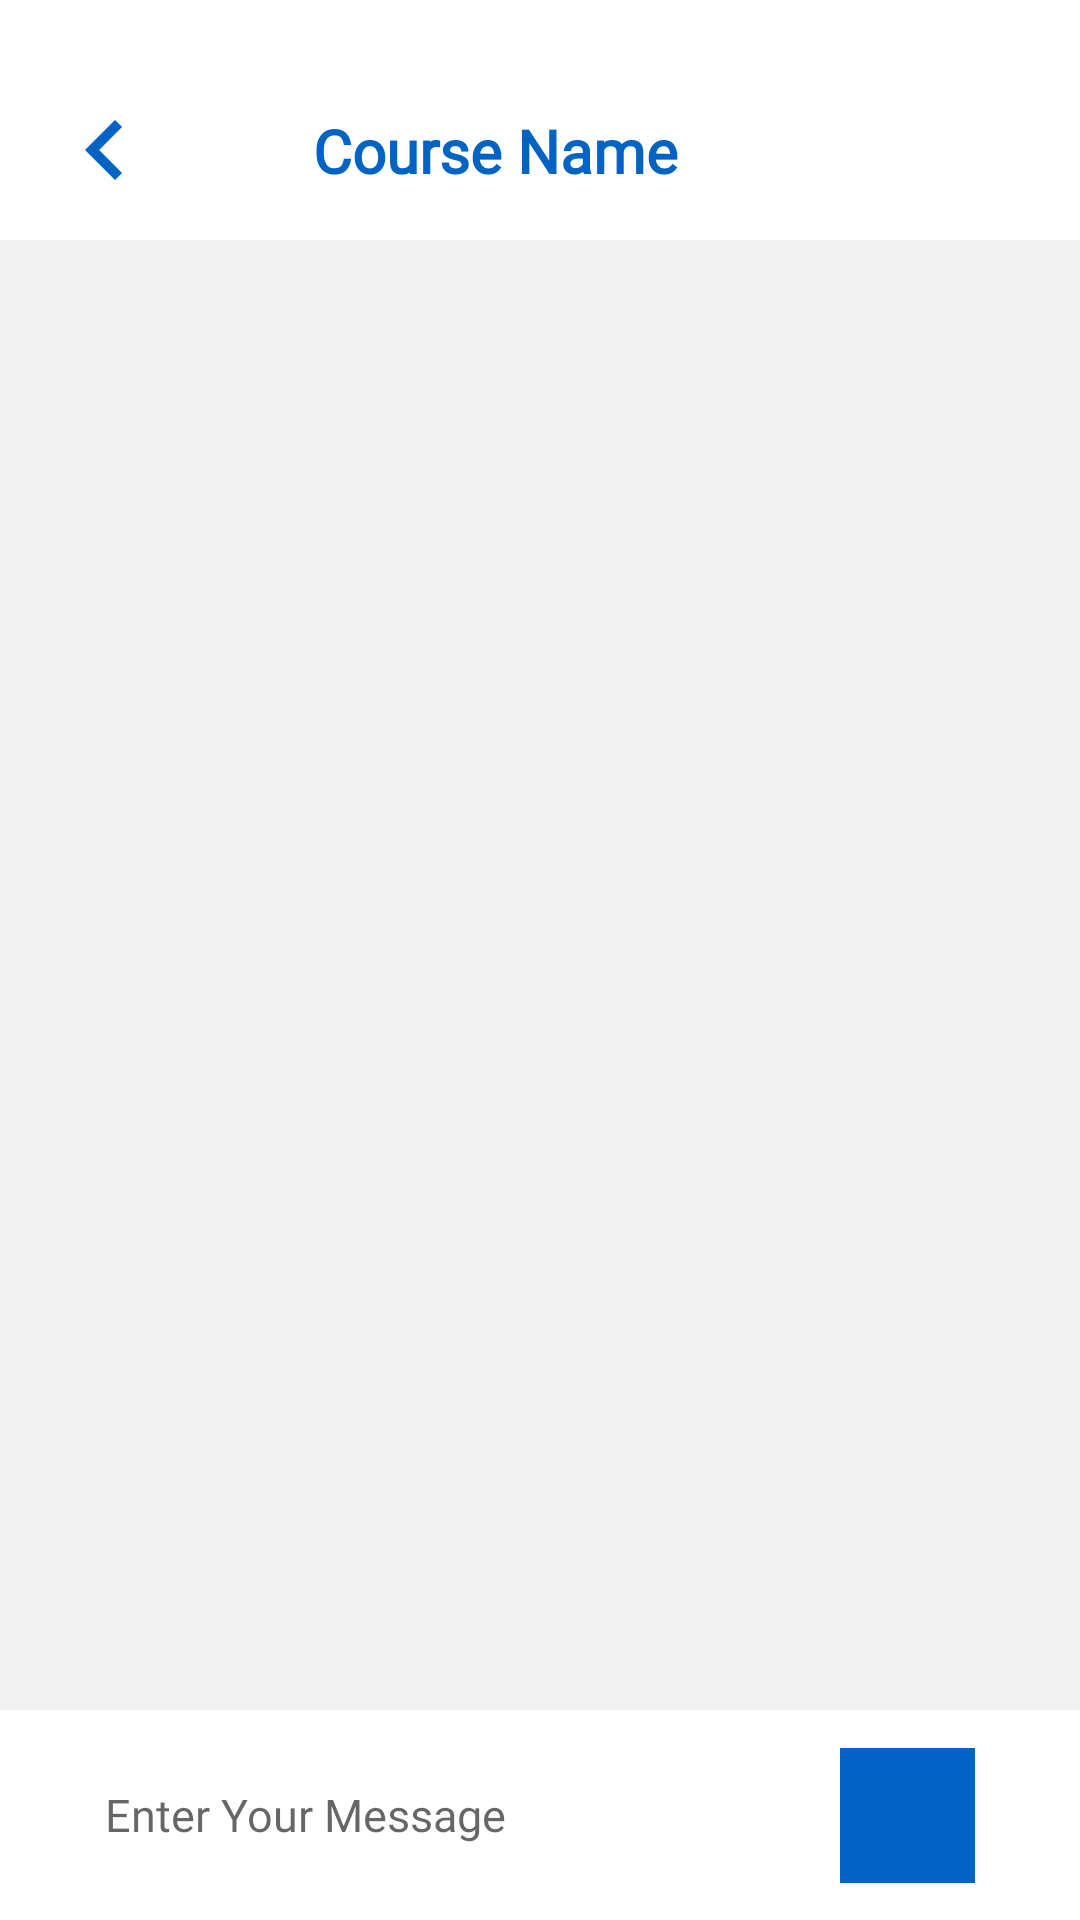

Where icons sit on this 1080w x 1920h app screen, as (x1, y1, x2, y2):
left: (85, 120, 122, 180)
